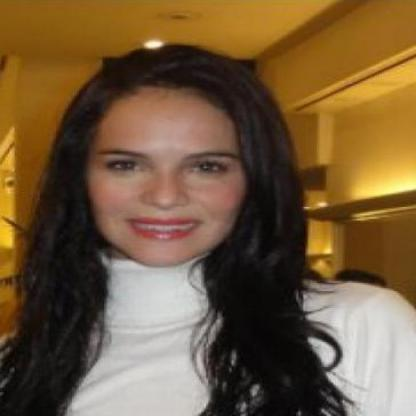long-hair: (9, 269, 318, 327)
